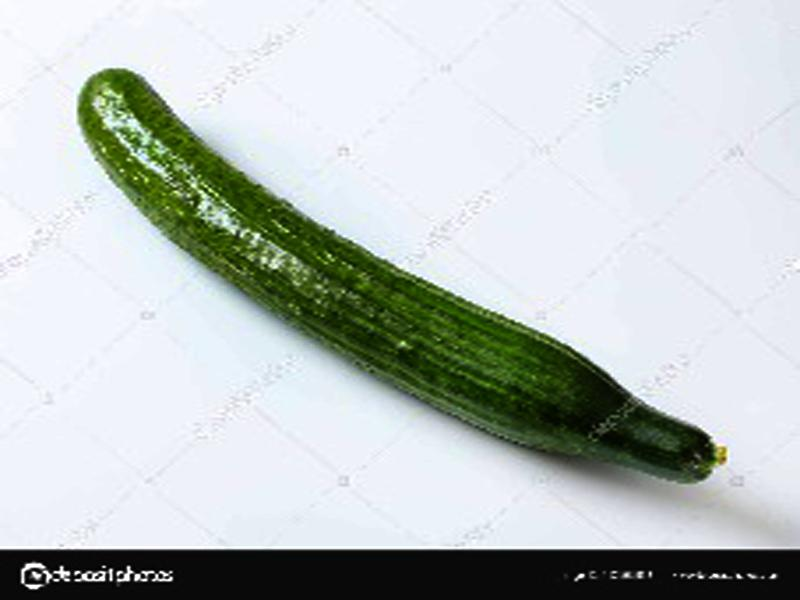Cucumber: (81, 69, 726, 478)
